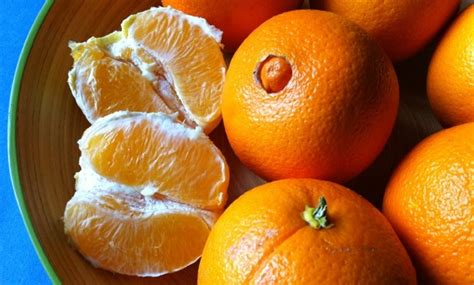orange: (217, 8, 408, 181), (192, 177, 421, 285)
